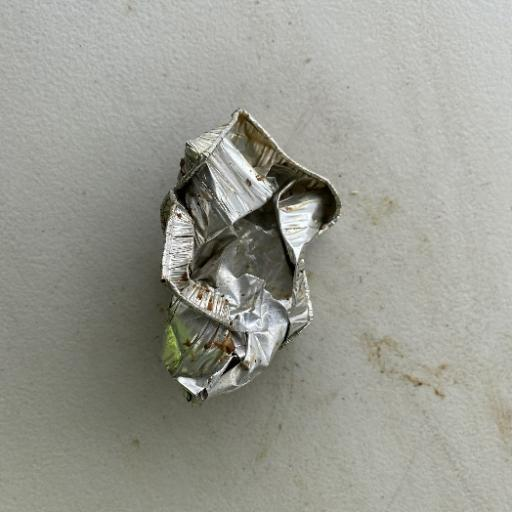Metal: (155, 106, 343, 404)
